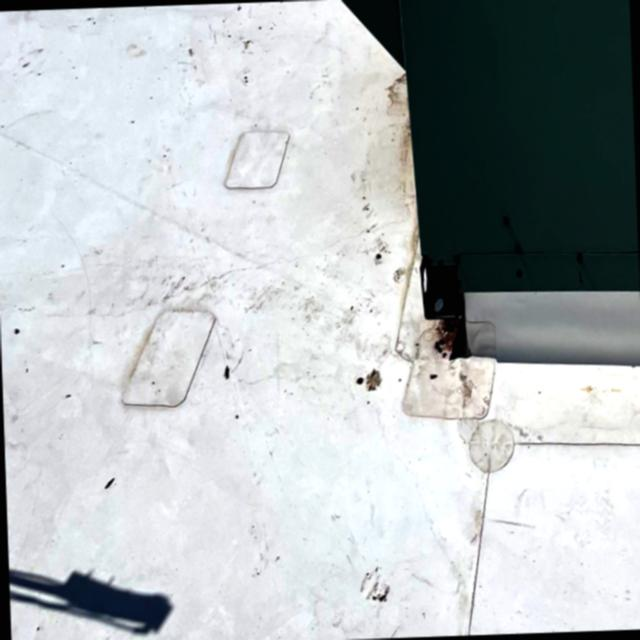RTU: (302, 0, 640, 386)
